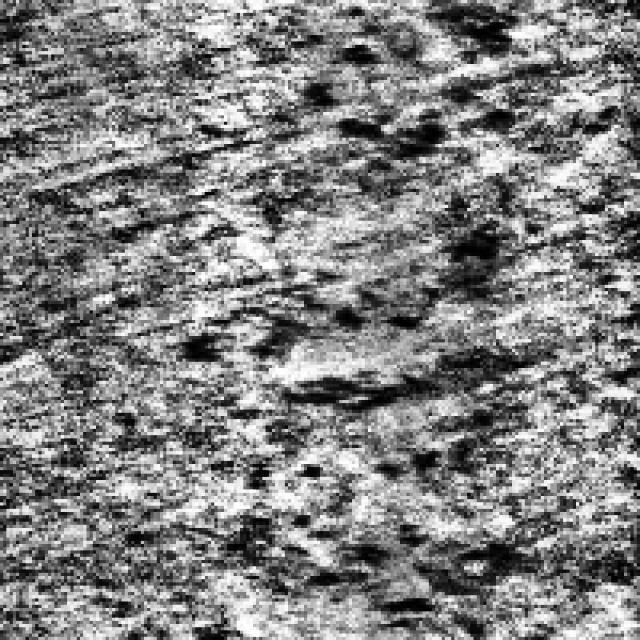Crazing: (179, 224, 496, 630), (288, 7, 506, 154)
